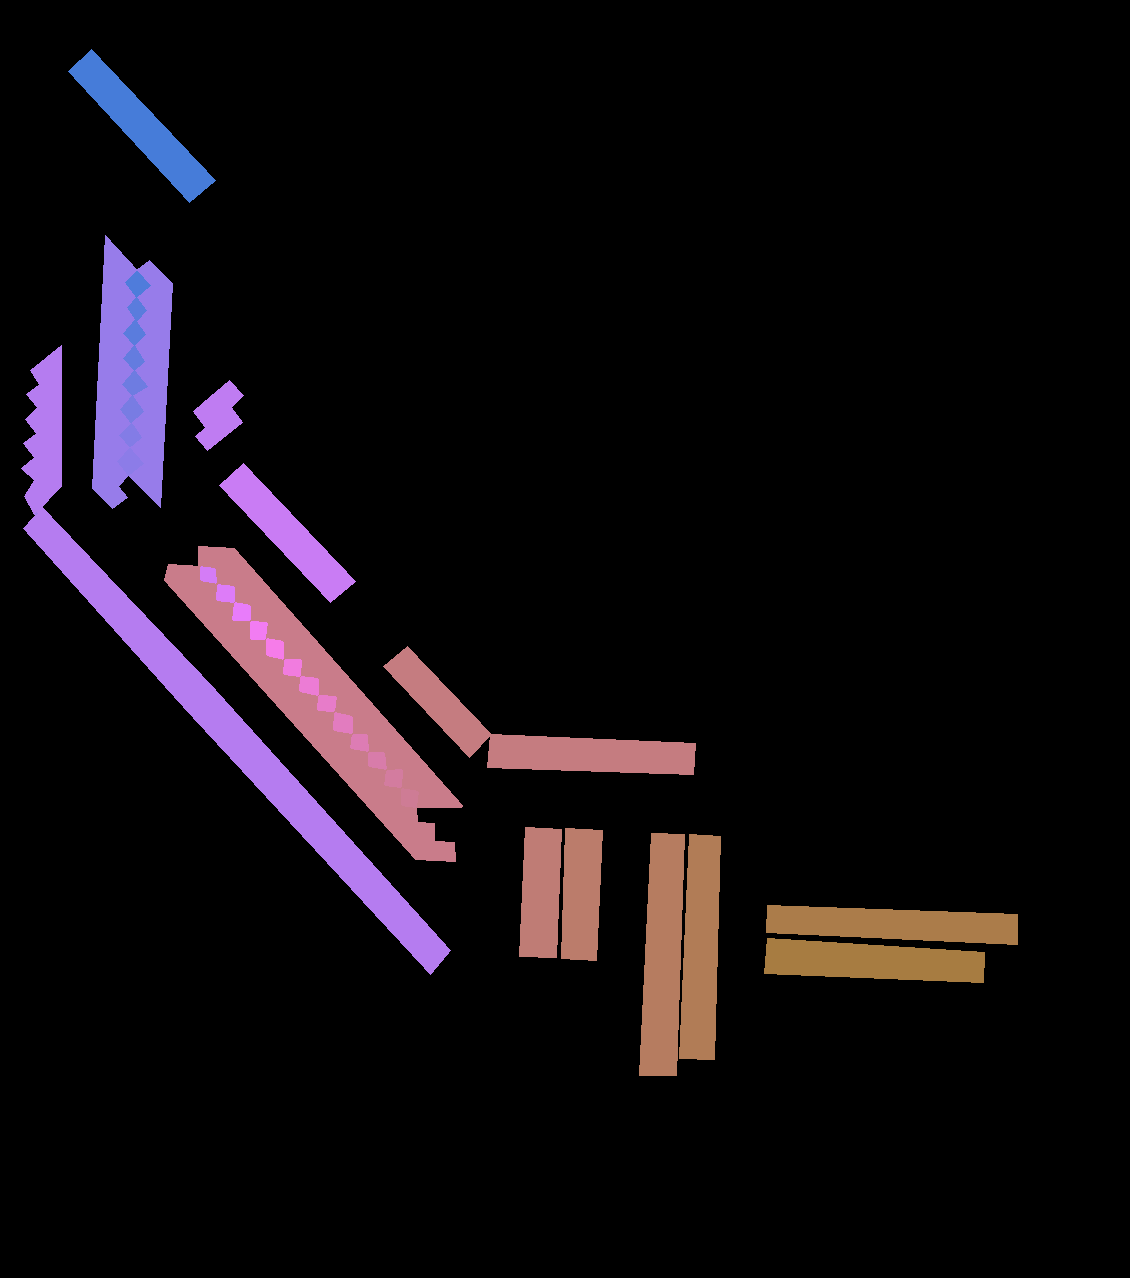parkingspot: (23, 507, 450, 974), (164, 564, 455, 861), (199, 546, 462, 807), (68, 49, 215, 202), (219, 463, 354, 602), (92, 236, 137, 508), (383, 646, 491, 757), (128, 260, 172, 507), (639, 833, 684, 1075), (764, 938, 984, 982), (766, 905, 1017, 944), (680, 834, 720, 1059), (486, 734, 695, 774), (21, 345, 61, 514), (561, 828, 602, 960), (519, 827, 561, 957), (193, 379, 243, 450)
